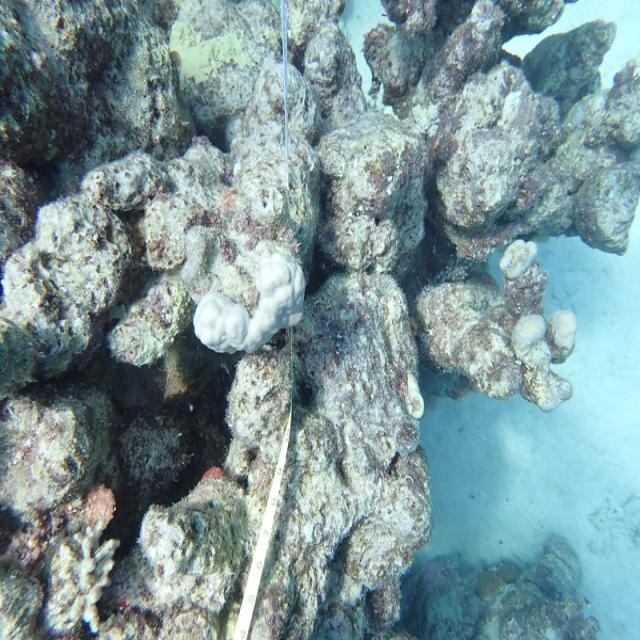Bleached Coral: (187, 231, 316, 362)
